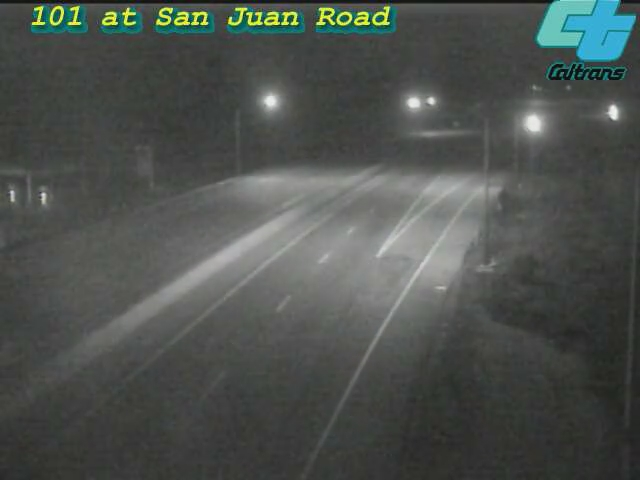vehicle: (1, 278, 68, 358), (505, 101, 555, 151), (587, 87, 637, 137)
